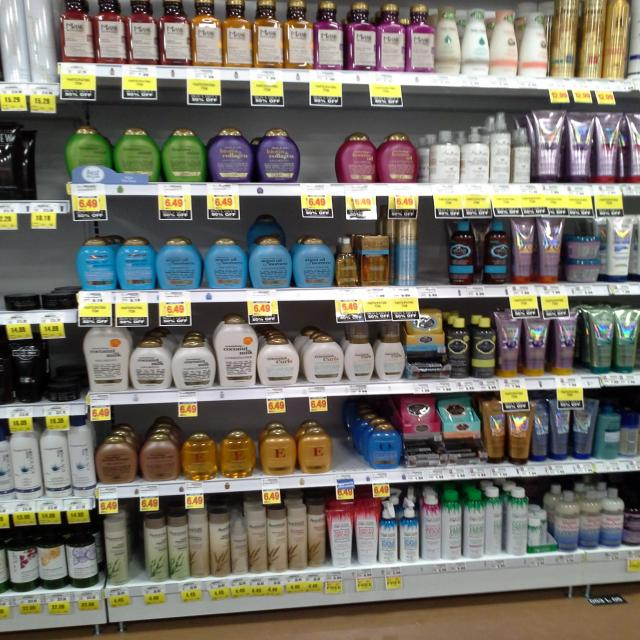void: (28, 114, 66, 216), (418, 211, 448, 299), (307, 113, 333, 193), (336, 421, 364, 495)
